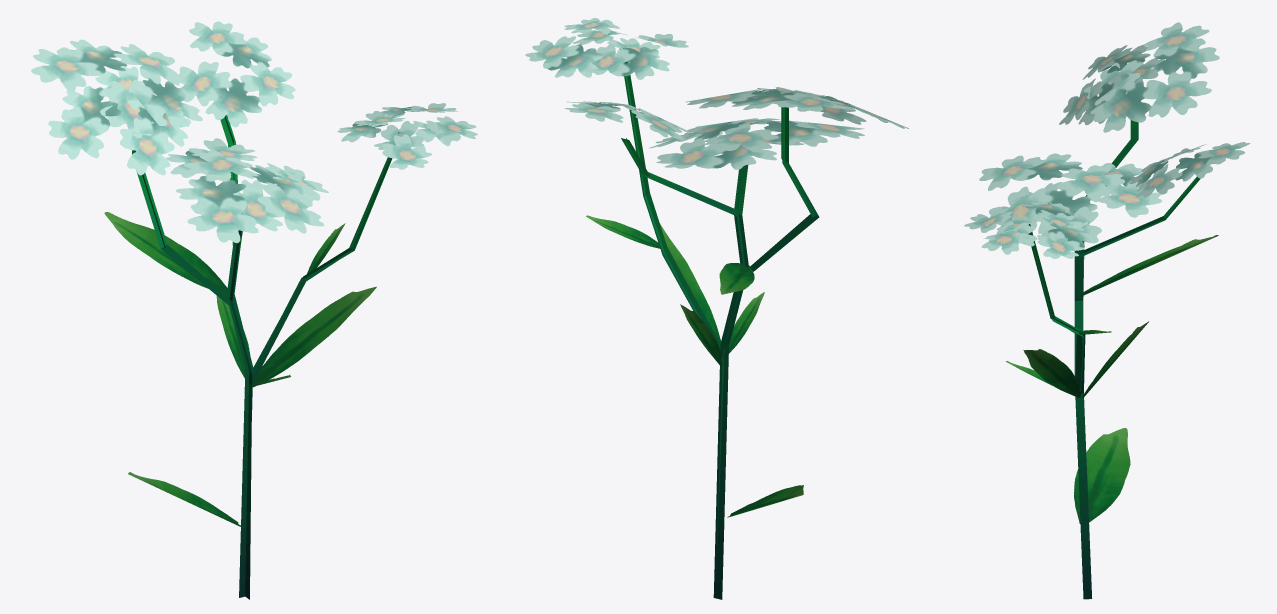
Rendered from SM_WFlowers.fbx.
3 views of the same model, side by side, from view 1: azimuth 30°, elevation 25°; view 2: azimuth 150°, elevation 25°; view 3: azimuth 270°, elevation 25° (orthographic). The views are drawn at different scales.
Visible parts, largest first — view 1: White_flowers2; view 2: White_flowers2; view 3: White_flowers2.
Boxes of the visible parts, x1,y1,x2,y2 form: White_flowers2: (31, 21, 477, 599); White_flowers2: (525, 18, 908, 599); White_flowers2: (964, 22, 1250, 599).
Bounding box in the file's own units: 99.17 × 128 × 71.8.
1 material, 1 textured.
